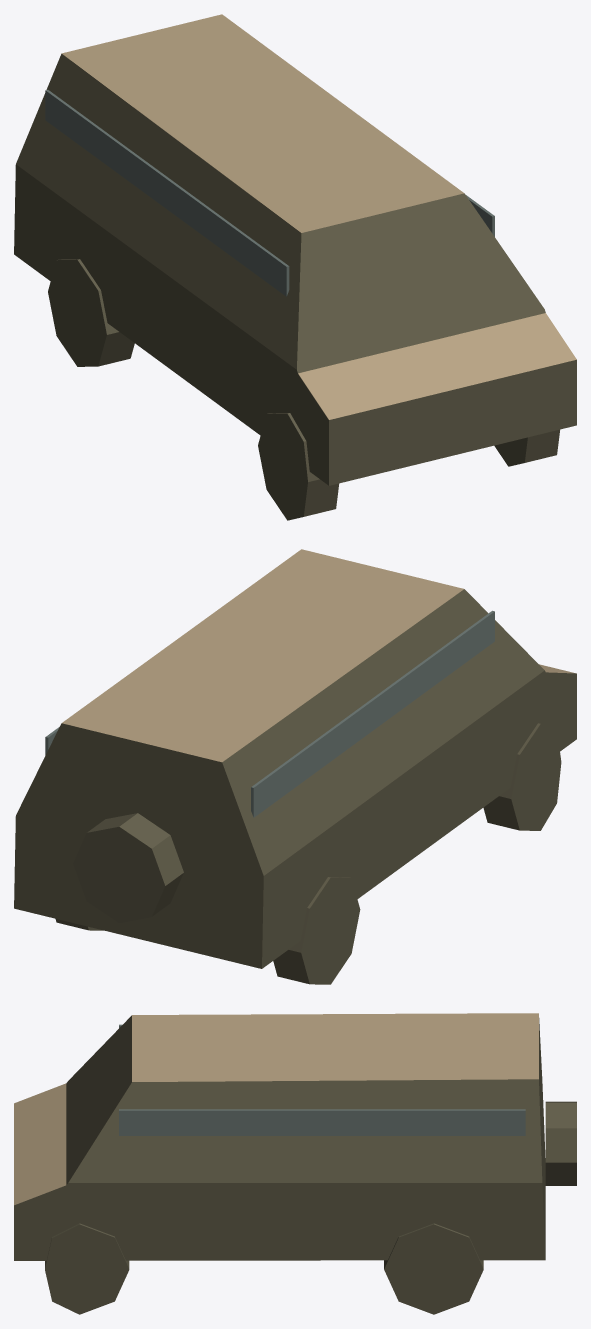
Rendered from SM_CocheCivil_Todoterreno_v3_LOD1.fbx.
3 renders of one model, top to bottom at view 1: azimuth 30°, elevation 25°; view 2: azimuth 150°, elevation 25°; view 3: azimuth 270°, elevation 25°, orthographic. The views are drawn at different scales.
Visible parts, largest first — view 1: SM_coche_civil_v18_LOD1; view 2: SM_coche_civil_v18_LOD1; view 3: SM_coche_civil_v18_LOD1.
Part boxes in pixels (bbox=[...]): SM_coche_civil_v18_LOD1: bbox=[14, 14, 576, 520]; SM_coche_civil_v18_LOD1: bbox=[14, 549, 576, 984]; SM_coche_civil_v18_LOD1: bbox=[14, 1013, 576, 1314].
Bounding box in the file's own units: 1.88 × 1.82 × 4.29.
